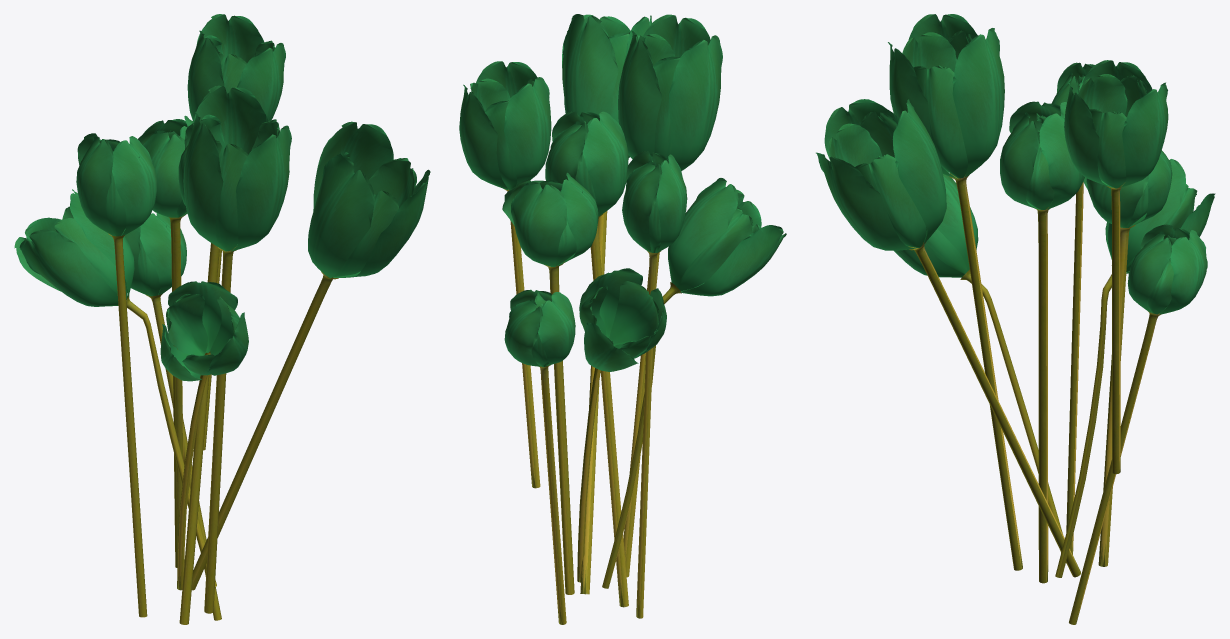
File: RamoTulipanesVerdes.fbx
3 views of the same model, side by side, from view 1: azimuth 30°, elevation 25°; view 2: azimuth 150°, elevation 25°; view 3: azimuth 270°, elevation 25° (orthographic). The views are drawn at different scales.
Parts seen in each view (by area): view 1: TulipanesVerdes; view 2: TulipanesVerdes; view 3: TulipanesVerdes.
Part boxes in pixels (x1,y1,x2,y2): TulipanesVerdes: (14, 14, 430, 624); TulipanesVerdes: (459, 14, 786, 624); TulipanesVerdes: (816, 14, 1215, 624).
Bounding box in the file's own units: 0.1391 × 0.1921 × 0.3051.
Materials: 2 (2 with a texture image).
